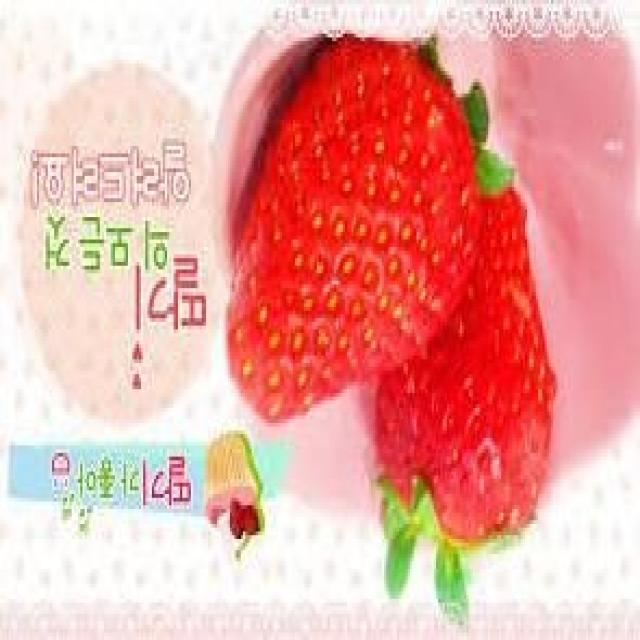mature: (227, 34, 483, 428), (376, 184, 557, 545)
